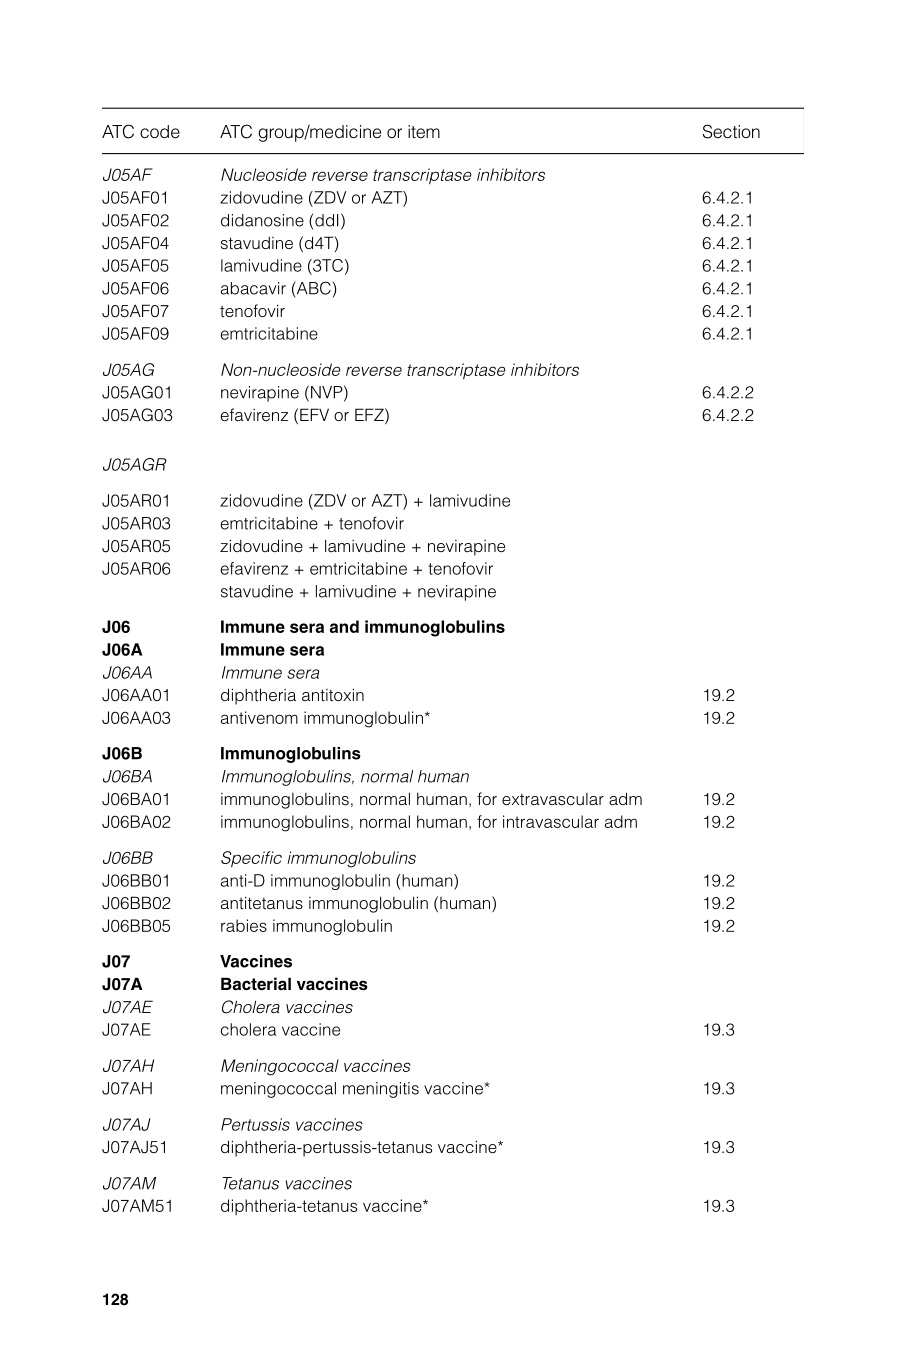partial_lined: (100, 107, 805, 1219)
